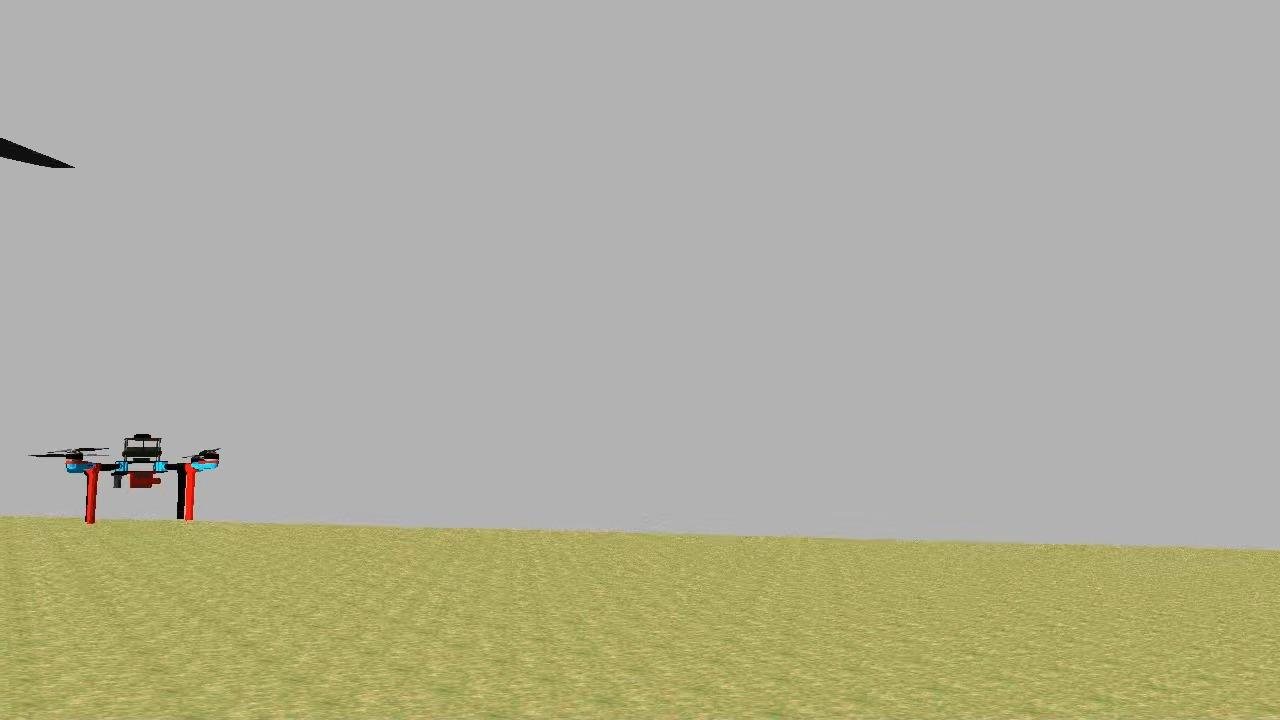UAV: (59, 422, 230, 532)
